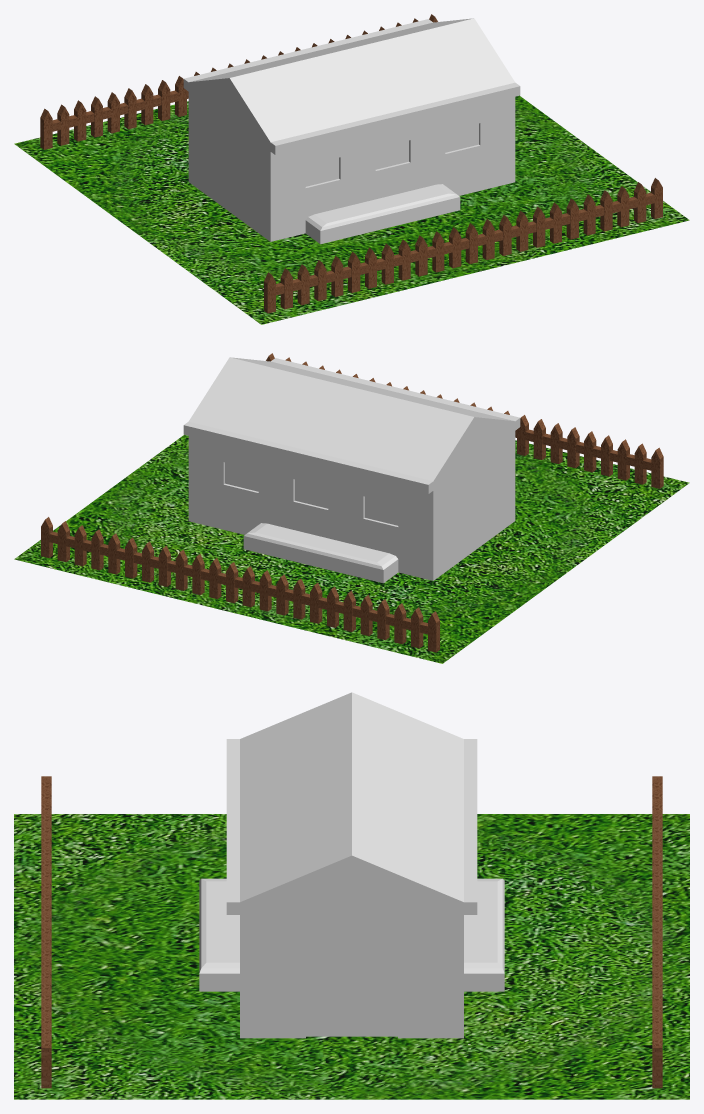
Rendered from casatext.fbx.
3 renders of one model, top to bottom at view 1: azimuth 30°, elevation 25°; view 2: azimuth 150°, elevation 25°; view 3: azimuth 270°, elevation 25°, orthographic. The views are drawn at different scales.
Visible parts, largest first — view 1: Cube, Plane, Cube.001, Cube.002; view 2: Cube, Plane, Cube.001, Cube.002; view 3: Plane, Cube, Cube.001.
Part boxes in pixels (<box>): Cube: <box>183,18,520,244</box>; Plane: <box>14,95,689,324</box>; Cube.001: <box>40,14,662,313</box>; Cube.002: <box>52,90,654,295</box>; Cube: <box>183,357,520,583</box>; Plane: <box>14,434,689,663</box>; Cube.001: <box>41,353,663,652</box>; Cube.002: <box>49,429,651,634</box>; Plane: <box>14,814,689,1099</box>; Cube: <box>199,692,504,1038</box>; Cube.001: <box>41,776,662,1088</box>.
Size of the model in its own units: 900 by 270 by 900.
3 materials, 2 textured.
